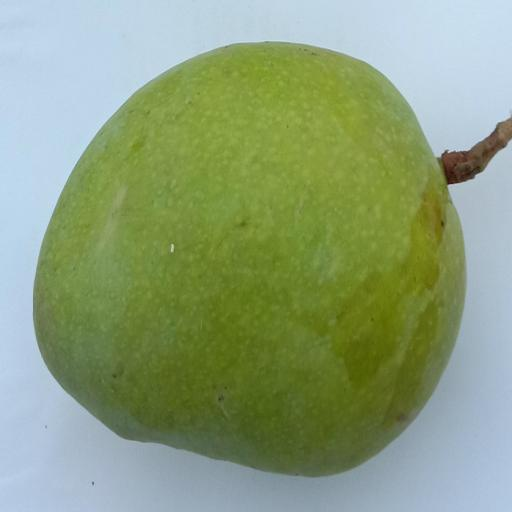mango-unripe: (13, 13, 512, 489)
